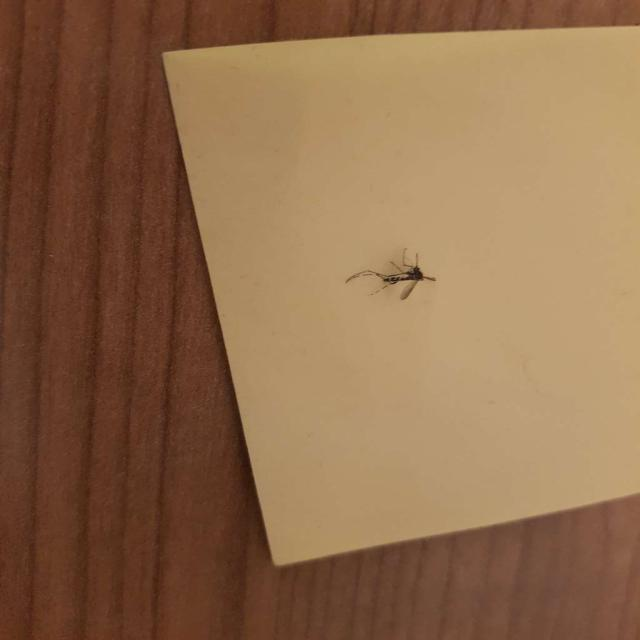albopictus: (345, 240, 444, 303)
